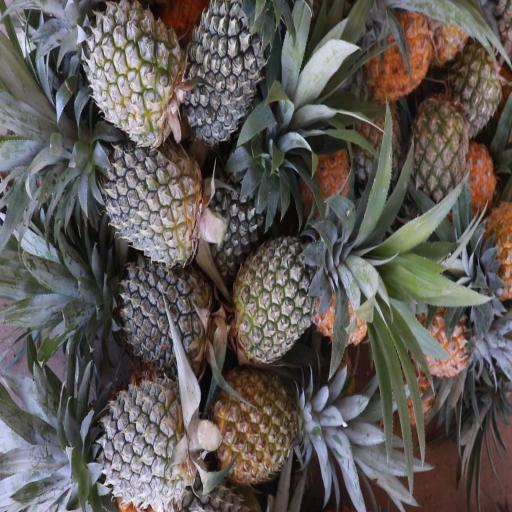------------------------------: (92, 4, 178, 148), (235, 237, 333, 357), (211, 372, 303, 483), (407, 98, 471, 202)
Pineapple - v8 v1: (370, 12, 434, 96)
